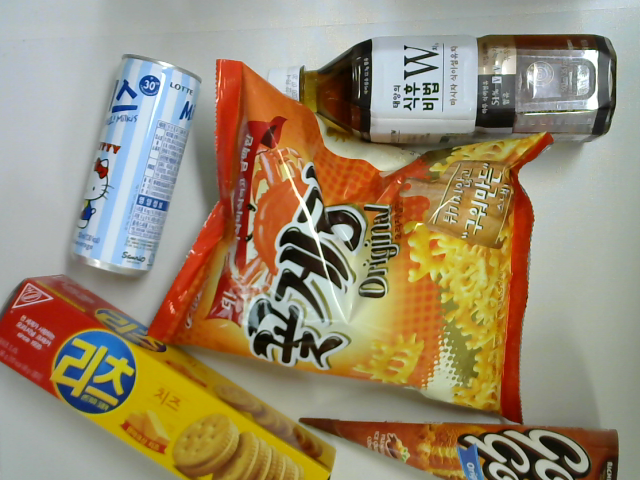Crabrang: (146, 56, 554, 425)
GooGoo_Cone_CVS: (297, 417, 620, 480)
Milkies_250ml: (65, 50, 204, 279)
Post-meal_recipe_W_tea_500ml: (260, 34, 619, 153)
Ritz_Sand_Cracker: (1, 274, 341, 480)
